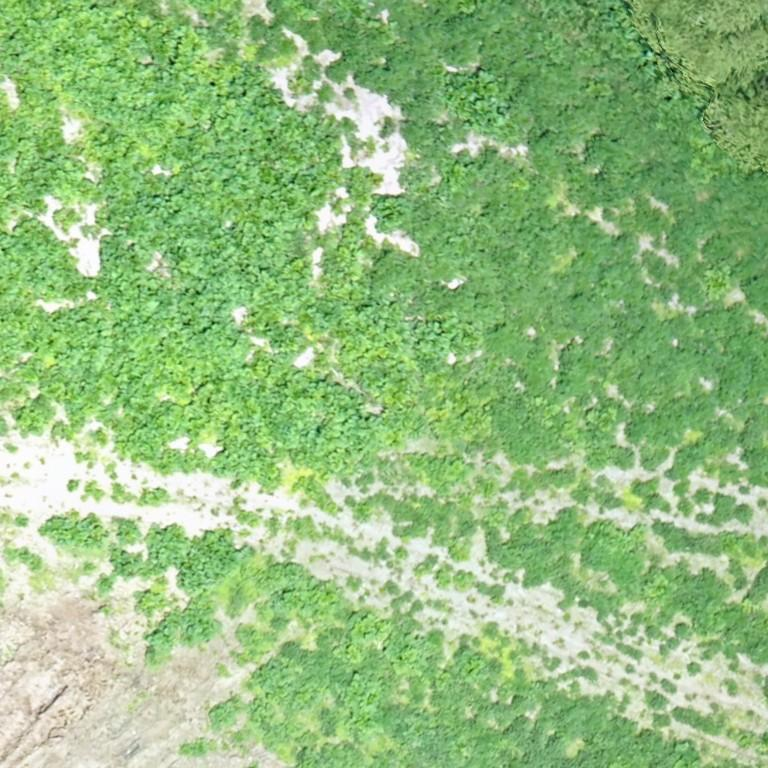hogweed: (0, 163, 490, 480), (0, 0, 354, 306), (102, 521, 252, 592), (346, 612, 489, 683), (146, 592, 214, 666), (443, 68, 519, 131), (264, 563, 335, 614), (40, 513, 106, 548), (374, 198, 409, 233), (139, 591, 162, 609)
